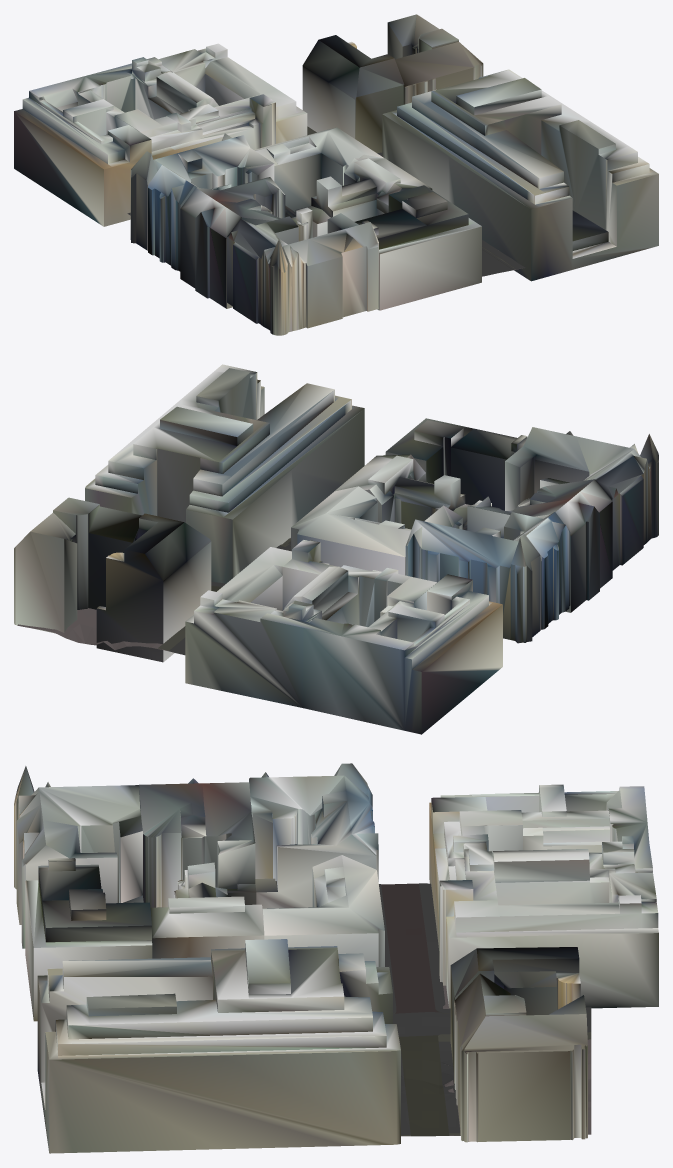
3 views of the same model, one above another, from view 1: azimuth 30°, elevation 25°; view 2: azimuth 150°, elevation 25°; view 3: azimuth 270°, elevation 25° (orthographic). The views are drawn at different scales.
Parts seen in each view (by area): view 1: c_m01_p03; view 2: c_m01_p03; view 3: c_m01_p03.
Boxes of the visible parts, left/top/right/bottom form: c_m01_p03: left=14, top=14, right=658, bottom=335; c_m01_p03: left=14, top=364, right=658, bottom=734; c_m01_p03: left=14, top=763, right=658, bottom=1153.
Size of the model in its own units: 149 by 39.53 by 153.
